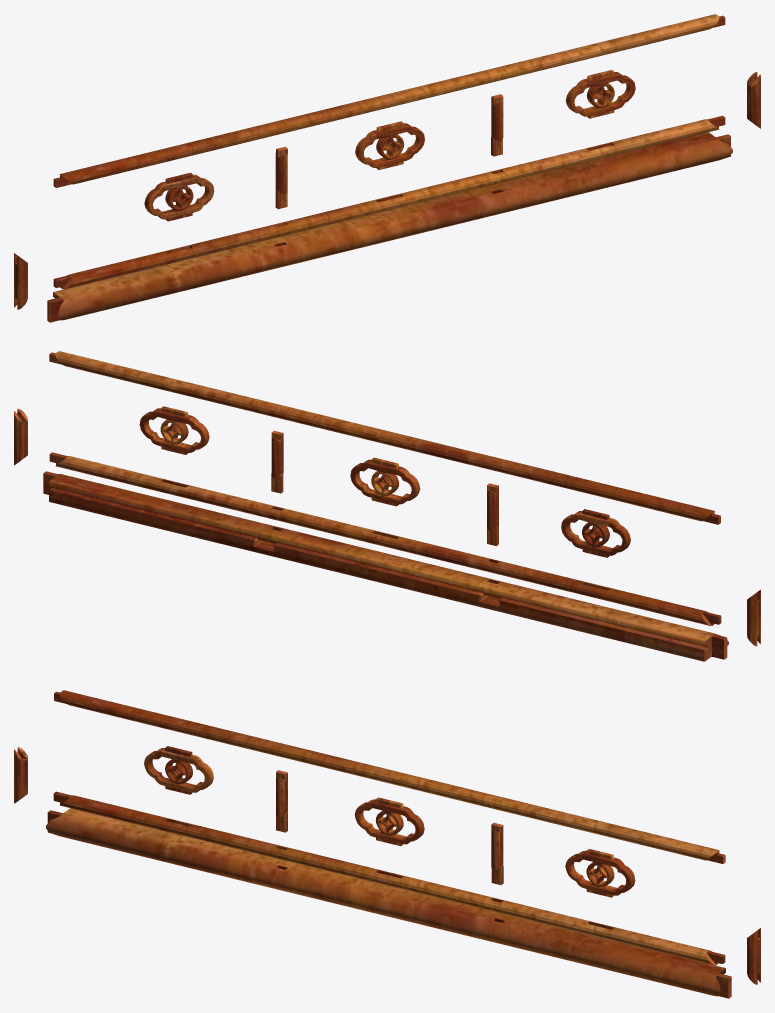
The model's file is SJ_J_dgdb_1_004.FBX.
3 renders of one model, top to bottom at view 1: azimuth 30°, elevation 25°; view 2: azimuth 150°, elevation 25°; view 3: azimuth 330°, elevation 25°, orthographic.
Visible parts, largest first — view 1: SJ_J_dgdb_1_004, SJ_J_hengzhang_1_003, SJ_J_hengzhang_1_004, SJ_J_hua_1_007, SJ_J_hua_1_006, SJ_J_hua_1_008, SJ_J_shugan_1_009, SJ_J_shugan_1_010, SJ_J_shugan_1_014, SJ_J_hua_1_011; view 2: SJ_J_dgdb_1_004, SJ_J_hengzhang_1_004, SJ_J_hengzhang_1_003, SJ_J_hua_1_006, SJ_J_hua_1_007, SJ_J_hua_1_008, SJ_J_shugan_1_010, SJ_J_shugan_1_009, SJ_J_hua_1_011, SJ_J_shugan_1_014; view 3: SJ_J_dgdb_1_004, SJ_J_hengzhang_1_003, SJ_J_hengzhang_1_004, SJ_J_hua_1_006, SJ_J_hua_1_007, SJ_J_hua_1_008, SJ_J_shugan_1_010, SJ_J_shugan_1_009, SJ_J_hua_1_011, SJ_J_shugan_1_014.
Boxes of the visible parts, x1,y1,x2,y2 form: SJ_J_dgdb_1_004: [47, 132, 732, 322]; SJ_J_hengzhang_1_003: [53, 14, 725, 187]; SJ_J_hengzhang_1_004: [53, 115, 725, 289]; SJ_J_hua_1_007: [144, 172, 214, 221]; SJ_J_hua_1_006: [355, 121, 424, 169]; SJ_J_hua_1_008: [565, 70, 635, 118]; SJ_J_shugan_1_009: [275, 146, 287, 209]; SJ_J_shugan_1_010: [491, 94, 503, 156]; SJ_J_shugan_1_014: [14, 253, 27, 309]; SJ_J_hua_1_011: [747, 72, 760, 128]; SJ_J_dgdb_1_004: [43, 471, 728, 661]; SJ_J_hengzhang_1_004: [49, 452, 721, 625]; SJ_J_hengzhang_1_003: [49, 351, 720, 524]; SJ_J_hua_1_006: [350, 457, 420, 506]; SJ_J_hua_1_007: [561, 509, 630, 557]; SJ_J_hua_1_008: [139, 406, 209, 454]; SJ_J_shugan_1_010: [271, 431, 283, 493]; SJ_J_shugan_1_009: [487, 483, 498, 546]; SJ_J_hua_1_011: [14, 408, 27, 465]; SJ_J_shugan_1_014: [747, 589, 760, 646]; SJ_J_dgdb_1_004: [46, 808, 731, 998]; SJ_J_hengzhang_1_003: [54, 690, 725, 863]; SJ_J_hengzhang_1_004: [53, 791, 725, 965]; SJ_J_hua_1_006: [354, 797, 424, 846]; SJ_J_hua_1_007: [144, 746, 213, 794]; SJ_J_hua_1_008: [565, 849, 635, 897]; SJ_J_shugan_1_010: [491, 823, 503, 884]; SJ_J_shugan_1_009: [276, 770, 287, 832]; SJ_J_hua_1_011: [747, 928, 760, 984]; SJ_J_shugan_1_014: [14, 747, 27, 803].
Bounding box in the file's own units: 112 × 20.7 × 3.94.
2 materials, 2 textured.
